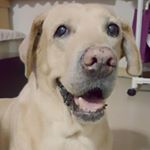puppy: (16, 2, 145, 150)
